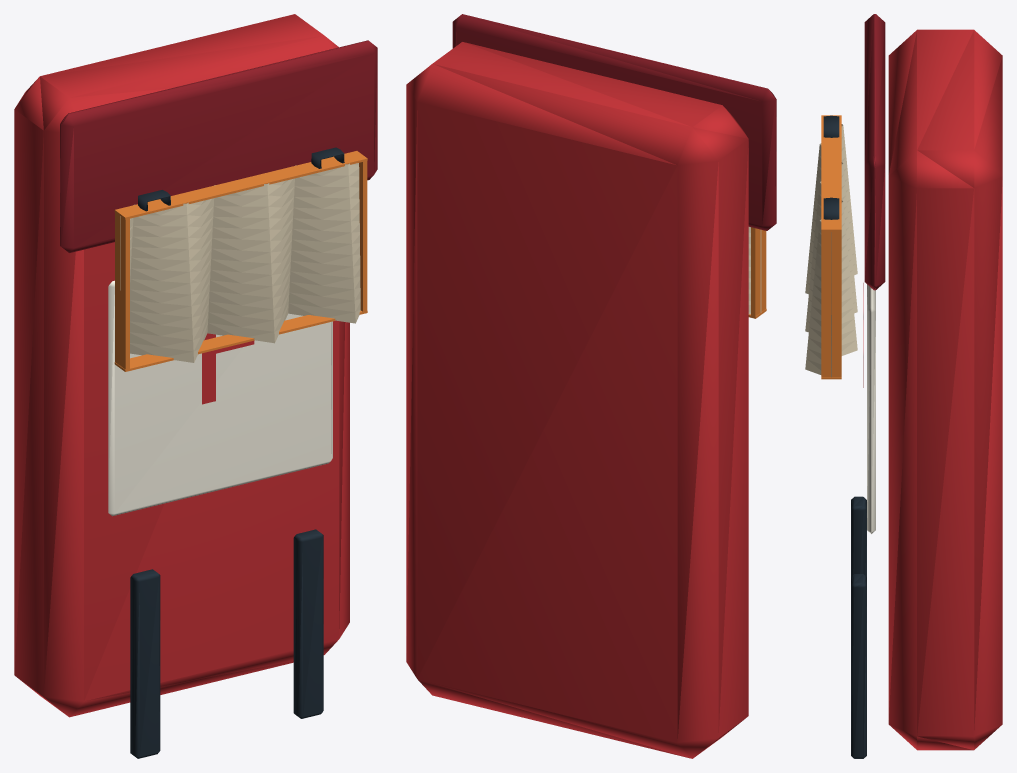
Rendered from fire-blanket.glb.
3 renders of one model, left to right at view 1: azimuth 30°, elevation 25°; view 2: azimuth 150°, elevation 25°; view 3: azimuth 270°, elevation 25°, orthographic. The views are drawn at different scales.
Parts seen in each view (by area): view 1: storage_pouch, pouch_lid, woven_fire_blanket, pouch_label, pull_tape, pull_tape.001, orange_edge_binding.002, orange_edge_binding, orange_edge_binding.003, orange_edge_binding.001, pouch_symbol; view 2: storage_pouch, pouch_lid, orange_edge_binding; view 3: storage_pouch, pouch_lid, woven_fire_blanket, orange_edge_binding.001, pull_tape.001, pouch_label, orange_edge_binding.002, pull_tape, grip_loop, grip_loop.001.
Part boxes in pixels (x1,y1,x2,y2): storage_pouch: (14, 14, 349, 717); pouch_lid: (60, 40, 377, 252); woven_fire_blanket: (120, 163, 360, 362); pouch_label: (108, 280, 332, 516); pull_tape: (130, 569, 160, 758); pull_tape.001: (293, 529, 323, 718); orange_edge_binding.002: (114, 151, 367, 219); orange_edge_binding: (115, 212, 129, 371); orange_edge_binding.003: (114, 310, 367, 371); orange_edge_binding.001: (359, 159, 367, 313); pouch_symbol: (202, 333, 254, 404); storage_pouch: (406, 42, 748, 758); pouch_lid: (452, 14, 776, 230); orange_edge_binding: (751, 227, 766, 316); storage_pouch: (888, 29, 1002, 750); pouch_lid: (864, 14, 885, 290); woven_fire_blanket: (805, 124, 857, 376); orange_edge_binding.001: (821, 232, 841, 376); pull_tape.001: (851, 574, 866, 758); pouch_label: (867, 284, 875, 533); orange_edge_binding.002: (821, 115, 841, 231); pull_tape: (851, 496, 866, 576); grip_loop: (823, 115, 839, 137); grip_loop.001: (823, 197, 839, 219).
Bounding box in the file's own units: 0.31 × 0.61 × 0.173.
